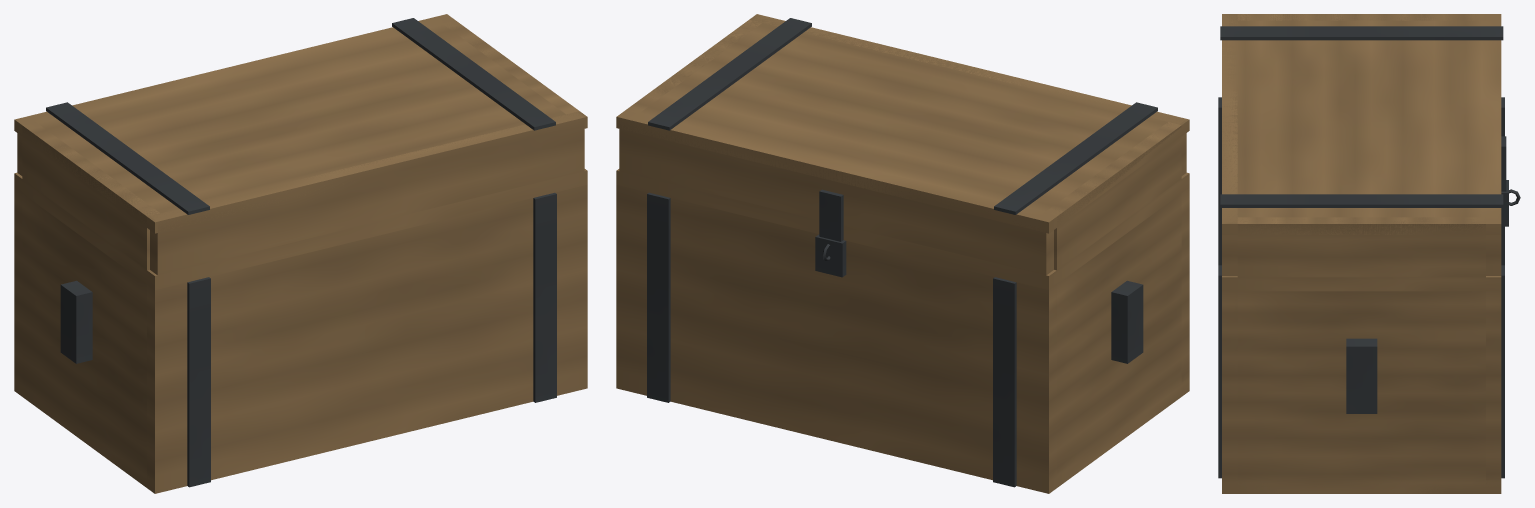
The model's file is chest_wood.fbx.
The picture shows the model from 3 angles, left to right: view 1: azimuth 30°, elevation 25°; view 2: azimuth 150°, elevation 25°; view 3: azimuth 270°, elevation 25°; orthographic projection.
Visible parts, largest first — view 1: chest_wood, chest_wood_lid; view 2: chest_wood, chest_wood_lid; view 3: chest_wood_lid, chest_wood.
Part boxes in pixels (x1=…): chest_wood: x1=14, y1=184, x2=587, y2=493; chest_wood_lid: x1=14, y1=14, x2=587, y2=289; chest_wood: x1=616, y1=184, x2=1189, y2=493; chest_wood_lid: x1=616, y1=14, x2=1189, y2=289; chest_wood_lid: x1=1220, y1=14, x2=1506, y2=291; chest_wood: x1=1218, y1=97, x2=1520, y2=493.
Size of the model in its own units: 0.86 by 0.486 by 0.487.
Materials: 1 (1 with a texture image).
